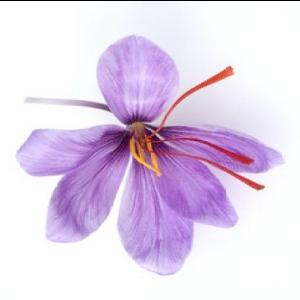Saffron: (24, 44, 284, 268)
